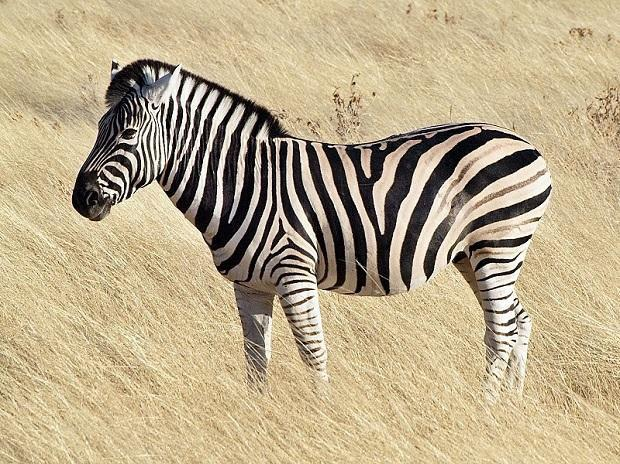Zebra: (72, 59, 551, 400)
